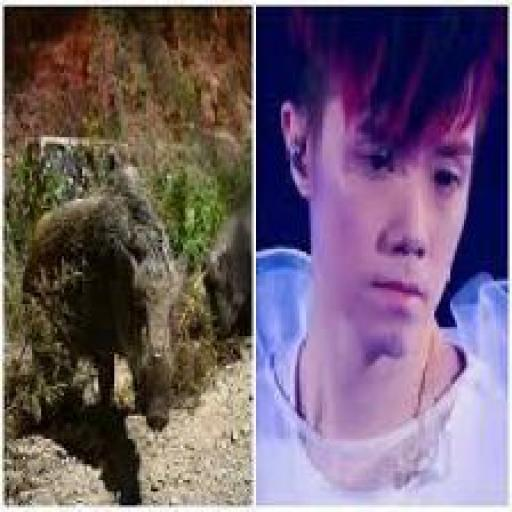Pig: (20, 190, 188, 464), (201, 190, 254, 348)
